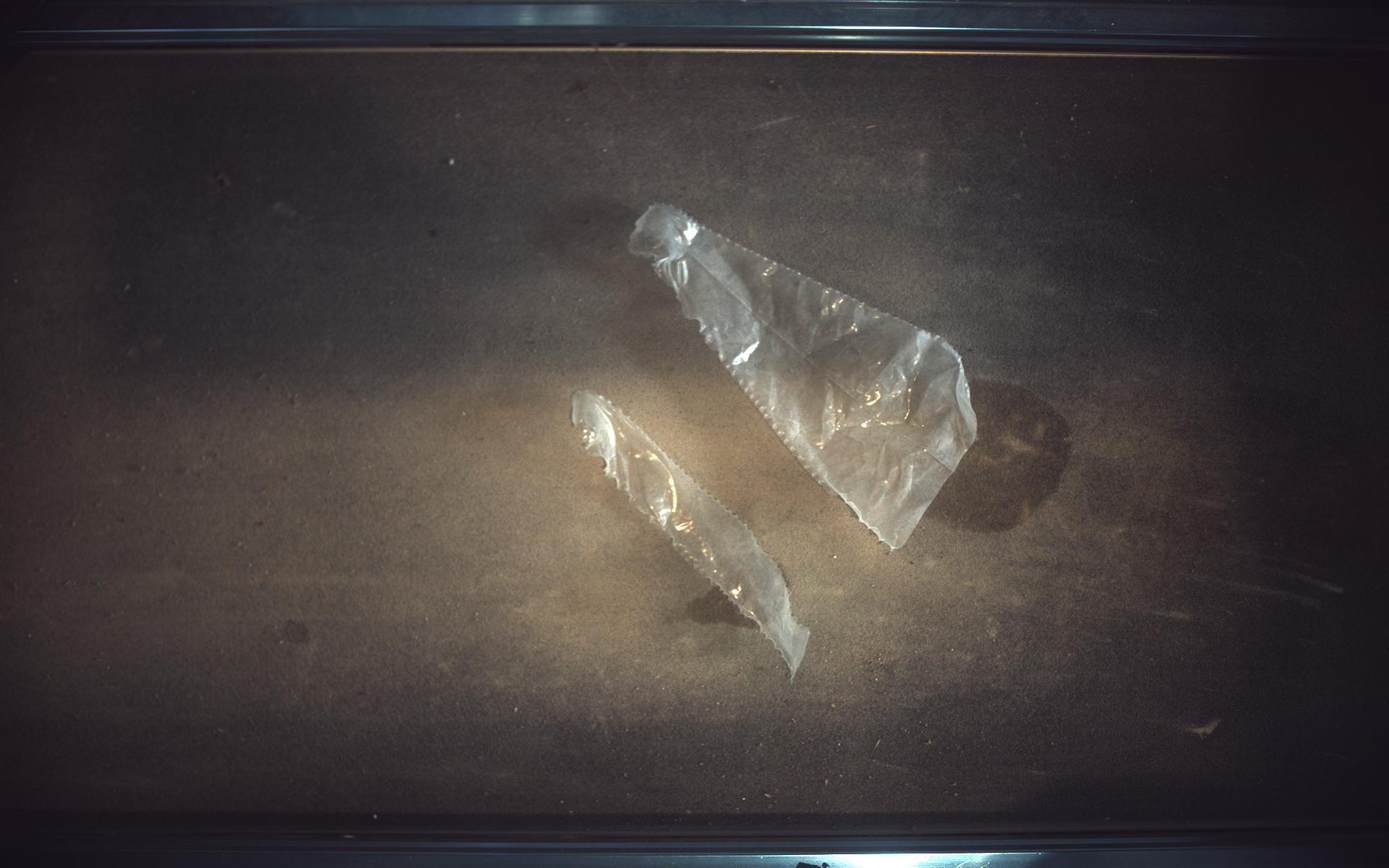general_w: (629, 203, 978, 549), (572, 391, 811, 676)
